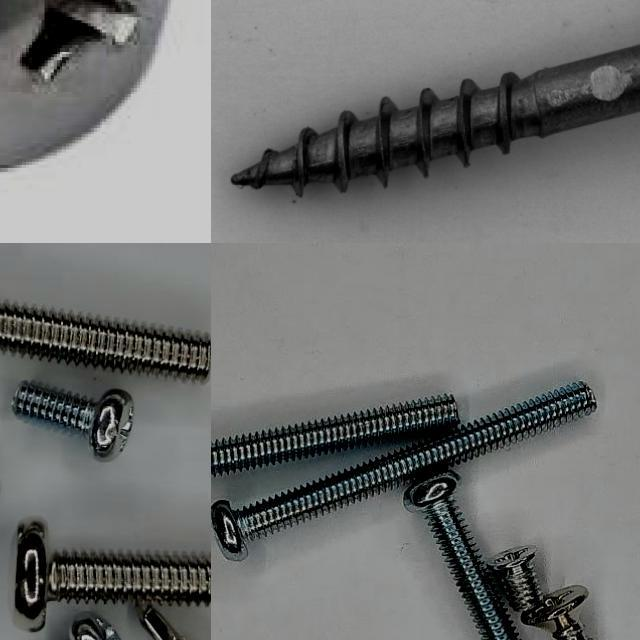Screw: (215, 0, 640, 243), (211, 382, 596, 561), (0, 0, 174, 171), (15, 521, 211, 632), (211, 394, 459, 476), (404, 471, 520, 640), (0, 302, 211, 381), (12, 382, 133, 460), (522, 586, 588, 640), (488, 546, 541, 612)
